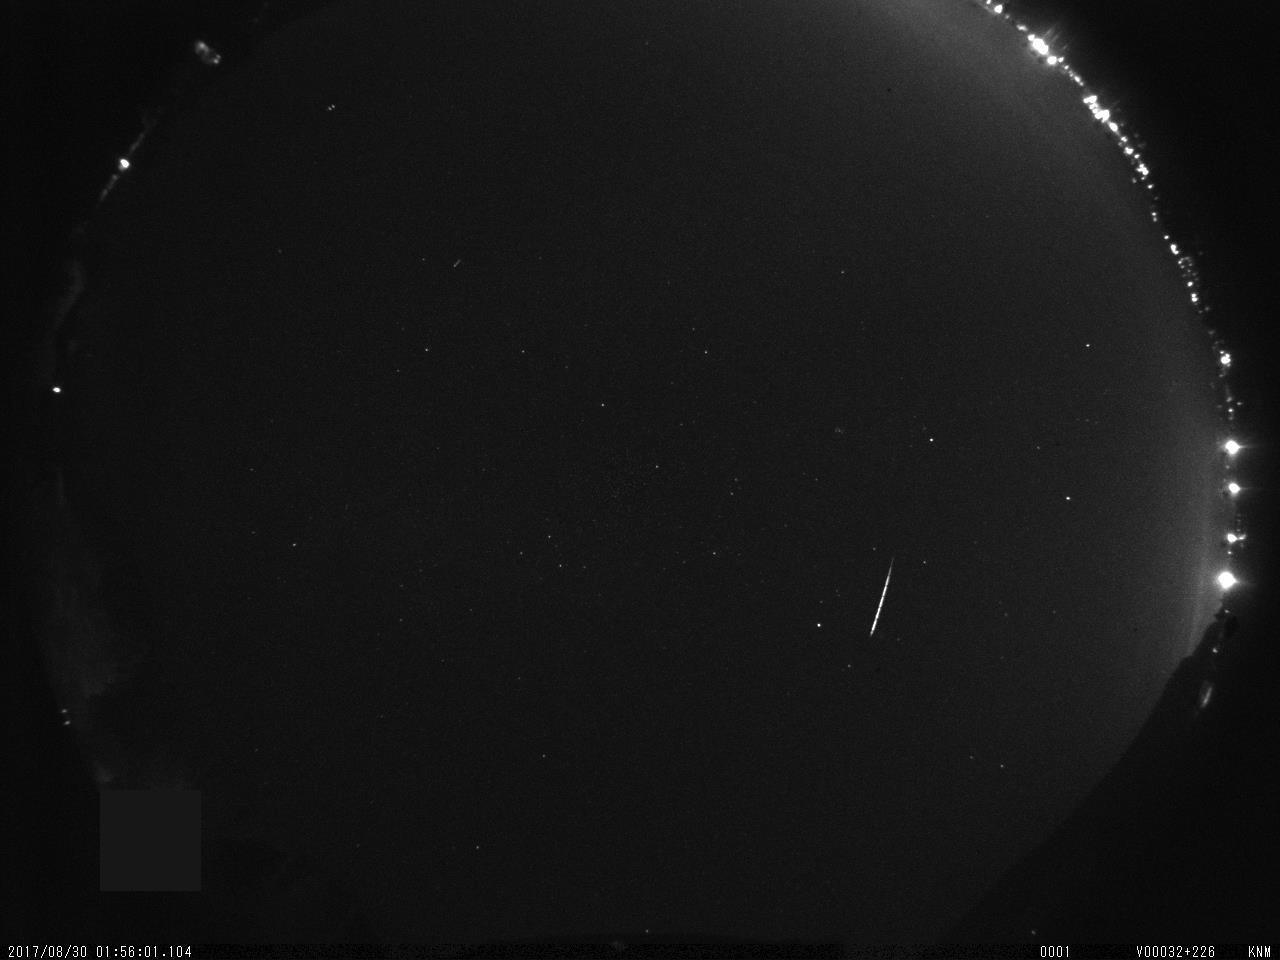Meteor: (860, 548, 901, 648)
